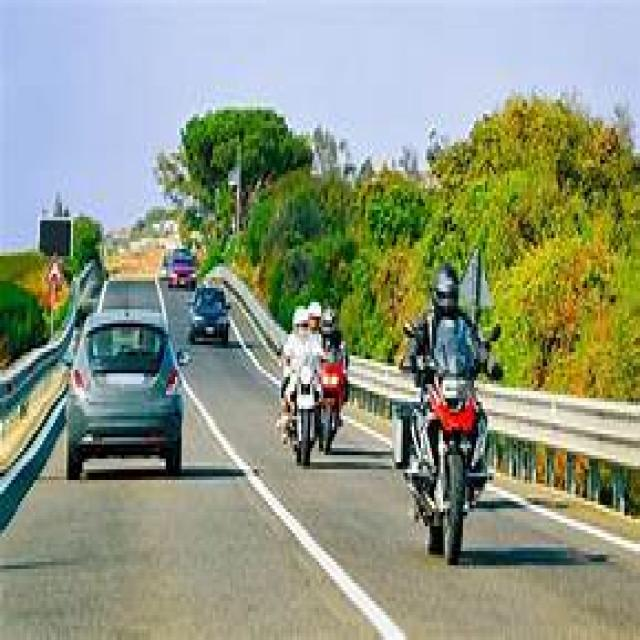Car: (66, 313, 182, 477), (189, 289, 228, 344), (169, 249, 195, 288)
Two Wheeler: (405, 307, 488, 563)
